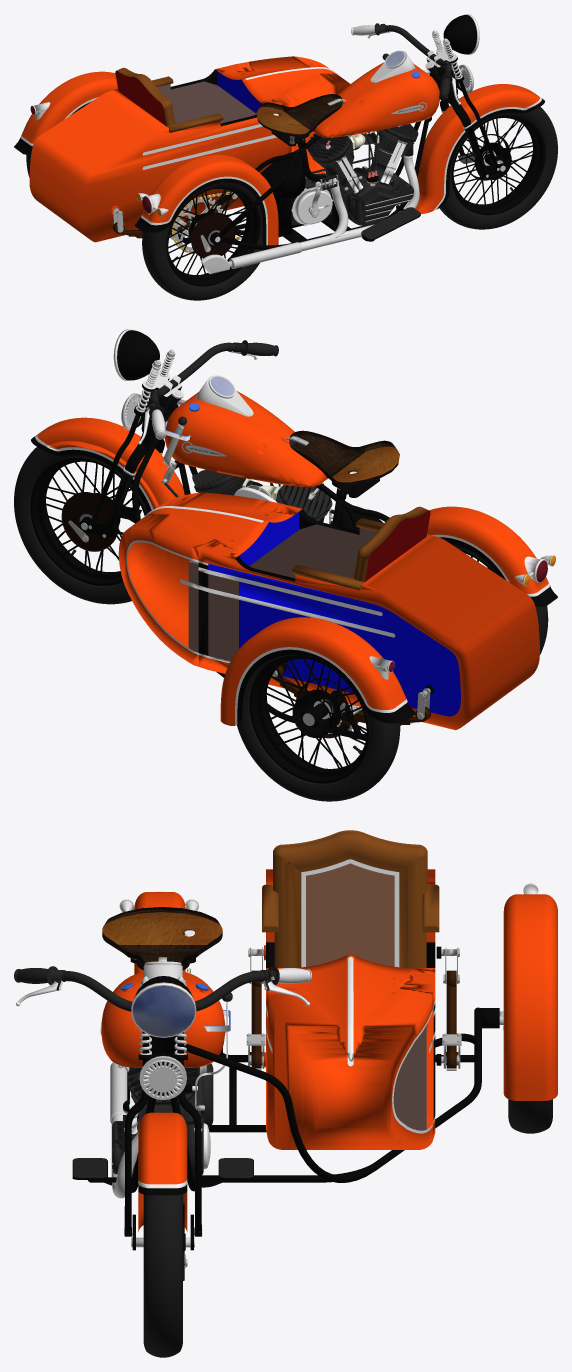
3 views of the same model, one above another, from view 1: azimuth 30°, elevation 25°; view 2: azimuth 150°, elevation 25°; view 3: azimuth 270°, elevation 25° (orthographic). The views are drawn at different scales.
Visible parts, largest first — view 1: sidecar_45, Panhead_9, Norton Drum brake.002_49, Norton Drum brake.001_43, WL 45#2_16, Sketchup_0, Fender back#1_8, Fender back#2_52, Fender back#3_62, Harley seat (2)_55, FL Forks_2, Component#2_47 (+9 smaller); view 2: sidecar_45, Norton Drum brake_40, WL 45#2_16, Fender back#3_62, Norton Drum brake.002_49, Fender back#2_52, Fender back#1_8, Harley seat (2)_55, FL Forks_2, Panhead_9, Seat (3)_46, Sketchup_0 (+5 smaller); view 3: sidecar_45, Seat (3)_46, Fender back#3_62, Sketchup_0, Norton Drum brake.002_49, WL 45#2_16, Harley seat (2)_55, Fender back#1_8, Panhead_9, FL Forks_2, Handle bars with levers#1_39, Headlight_3 (+7 smaller).
Part boxes in pixels (bbox=[...]): sidecar_45: bbox=[29, 56, 350, 242]; Panhead_9: bbox=[291, 124, 418, 226]; Norton Drum brake.002_49: bbox=[439, 106, 557, 229]; Norton Drum brake.001_43: bbox=[142, 182, 262, 300]; WL 45#2_16: bbox=[312, 51, 439, 137]; Sketchup_0: bbox=[111, 69, 431, 268]; Fender back#1_8: bbox=[415, 84, 544, 213]; Fender back#2_52: bbox=[134, 154, 278, 250]; Fender back#3_62: bbox=[14, 71, 117, 154]; Harley seat (2)_55: bbox=[256, 94, 348, 147]; FL Forks_2: bbox=[425, 30, 506, 178]; Component#2_47: bbox=[260, 152, 305, 237]; sidecar_45: bbox=[118, 492, 539, 730]; Norton Drum brake_40: bbox=[237, 655, 400, 801]; WL 45#2_16: bbox=[164, 375, 327, 487]; Fender back#3_62: bbox=[220, 617, 415, 725]; Norton Drum brake.002_49: bbox=[14, 447, 147, 604]; Fender back#2_52: bbox=[427, 506, 557, 606]; Fender back#1_8: bbox=[31, 417, 184, 512]; Harley seat (2)_55: bbox=[281, 430, 399, 500]; FL Forks_2: bbox=[79, 349, 183, 538]; Panhead_9: bbox=[161, 469, 332, 522]; Seat (3)_46: bbox=[353, 506, 430, 581]; Sketchup_0: bbox=[132, 399, 389, 739]; sidecar_45: bbox=[262, 869, 439, 1149]; Seat (3)_46: bbox=[273, 830, 427, 1027]; Fender back#3_62: bbox=[503, 894, 557, 1100]; Sketchup_0: bbox=[110, 945, 503, 1198]; Norton Drum brake.002_49: bbox=[143, 1194, 185, 1357]; WL 45#2_16: bbox=[101, 964, 230, 1067]; Harley seat (2)_55: bbox=[102, 907, 222, 970]; Fender back#1_8: bbox=[138, 1112, 187, 1231]; Panhead_9: bbox=[112, 1063, 213, 1176]; FL Forks_2: bbox=[124, 976, 202, 1250]; Handle bars with levers#1_39: bbox=[14, 966, 311, 1011]; Headlight_3: bbox=[131, 976, 196, 1037].
Bounding box in the file's own units: 3.9 × 1.83 × 2.6.
Materials: 42 (10 with a texture image).
